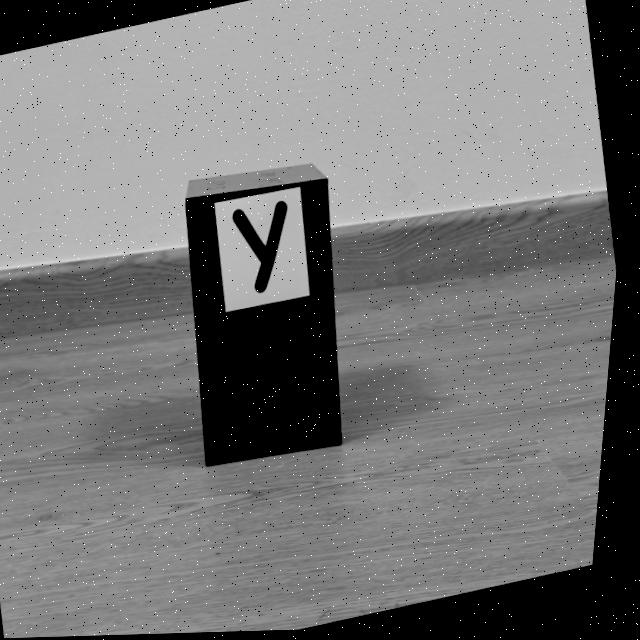Y: (236, 202, 291, 295)
